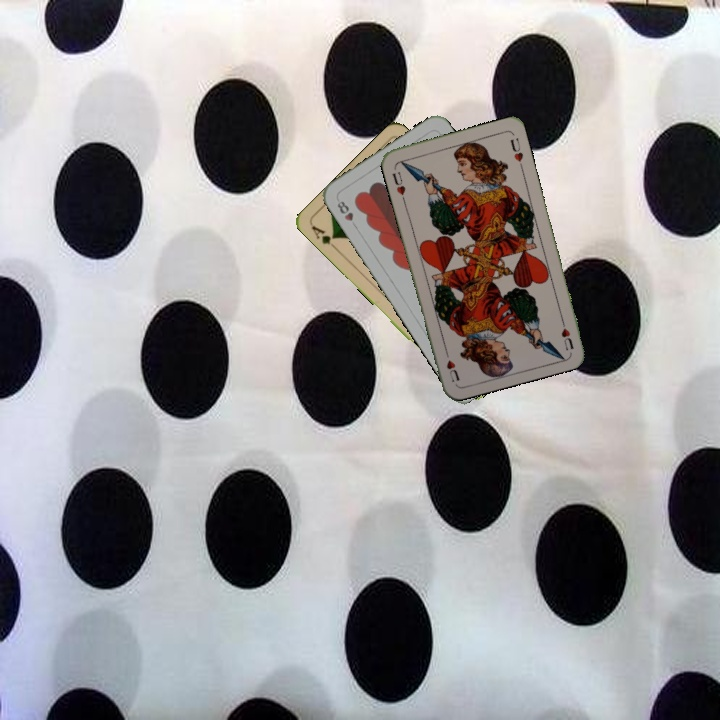GA: (308, 222, 341, 253)
H8: (333, 197, 356, 224)
HU: (557, 313, 576, 353), (388, 167, 408, 203)
